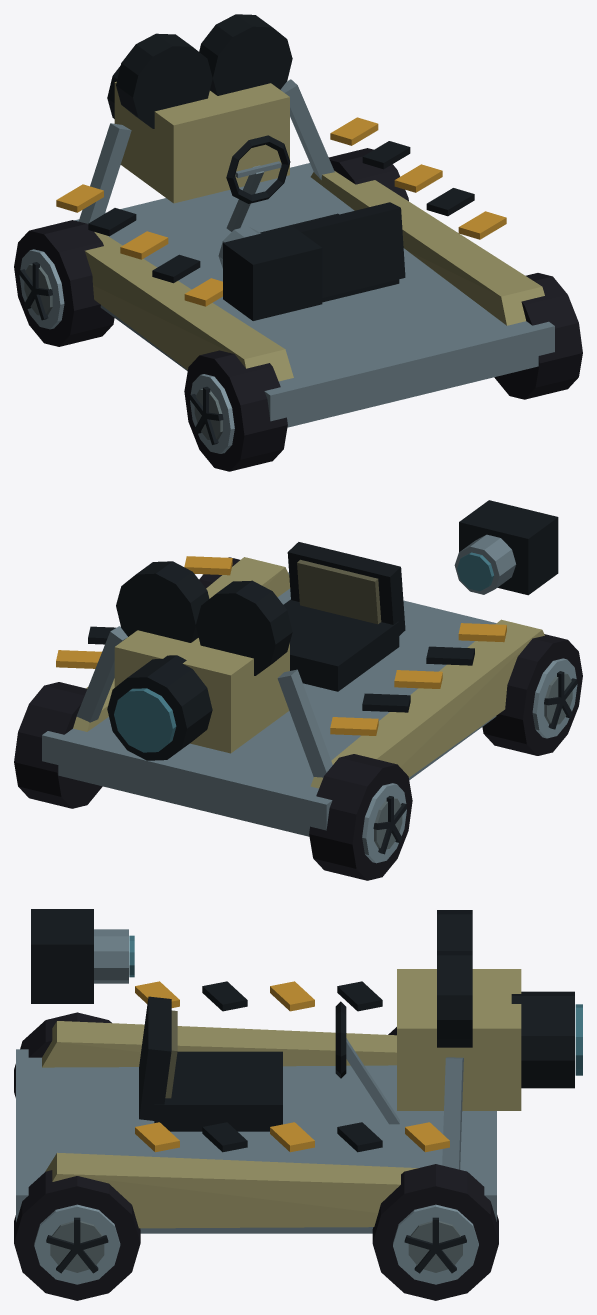
File: kart.glb
The picture shows the model from 3 angles, top to bottom: view 1: azimuth 30°, elevation 25°; view 2: azimuth 150°, elevation 25°; view 3: azimuth 270°, elevation 25°; orthographic projection. The views are drawn at different scales.
Parts seen in each view (by area): view 1: identity-camera-rig-camera-dolly-and-lens, identity-camera-rig-driver-cockpit, wheel-rear-left, wheel-front-left, identity-camera-rig-motif-hazard-stripes, identity-camera-rig-motif-camera, wheel-rear-right, wheel-front-right; view 2: identity-camera-rig-camera-dolly-and-lens, identity-camera-rig-driver-cockpit, wheel-front-left, identity-camera-rig-motif-camera, wheel-rear-left, identity-camera-rig-motif-hazard-stripes, wheel-front-right; view 3: identity-camera-rig-camera-dolly-and-lens, identity-camera-rig-driver-cockpit, wheel-front-right, wheel-rear-right, identity-camera-rig-motif-camera, identity-camera-rig-motif-hazard-stripes, wheel-rear-left.
Part boxes in pixels (x1,y1,x2,y2): identity-camera-rig-camera-dolly-and-lens: [74, 14, 554, 427]; identity-camera-rig-driver-cockpit: [226, 135, 405, 302]; wheel-rear-left: [184, 350, 287, 471]; wheel-front-left: [14, 220, 114, 346]; identity-camera-rig-motif-hazard-stripes: [56, 117, 506, 306]; identity-camera-rig-motif-camera: [218, 226, 322, 320]; wheel-rear-right: [494, 273, 582, 399]; wheel-front-right: [328, 148, 408, 201]; identity-camera-rig-camera-dolly-and-lens: [42, 557, 544, 836]; identity-camera-rig-driver-cockpit: [283, 542, 405, 691]; wheel-front-left: [309, 754, 412, 880]; identity-camera-rig-motif-camera: [454, 500, 558, 595]; wheel-rear-left: [482, 634, 582, 755]; identity-camera-rig-motif-hazard-stripes: [56, 556, 506, 735]; wheel-front-right: [14, 682, 102, 808]; identity-camera-rig-camera-dolly-and-lens: [16, 910, 582, 1233]; identity-camera-rig-driver-cockpit: [139, 996, 399, 1131]; wheel-front-right: [372, 1164, 498, 1300]; wheel-rear-right: [14, 1170, 140, 1300]; identity-camera-rig-motif-camera: [31, 909, 134, 1003]; identity-camera-rig-motif-hazard-stripes: [135, 981, 449, 1152]; wheel-rear-left: [14, 1012, 111, 1097].
Bounding box in the file's own units: 2.07 × 1.46 × 2.7.
